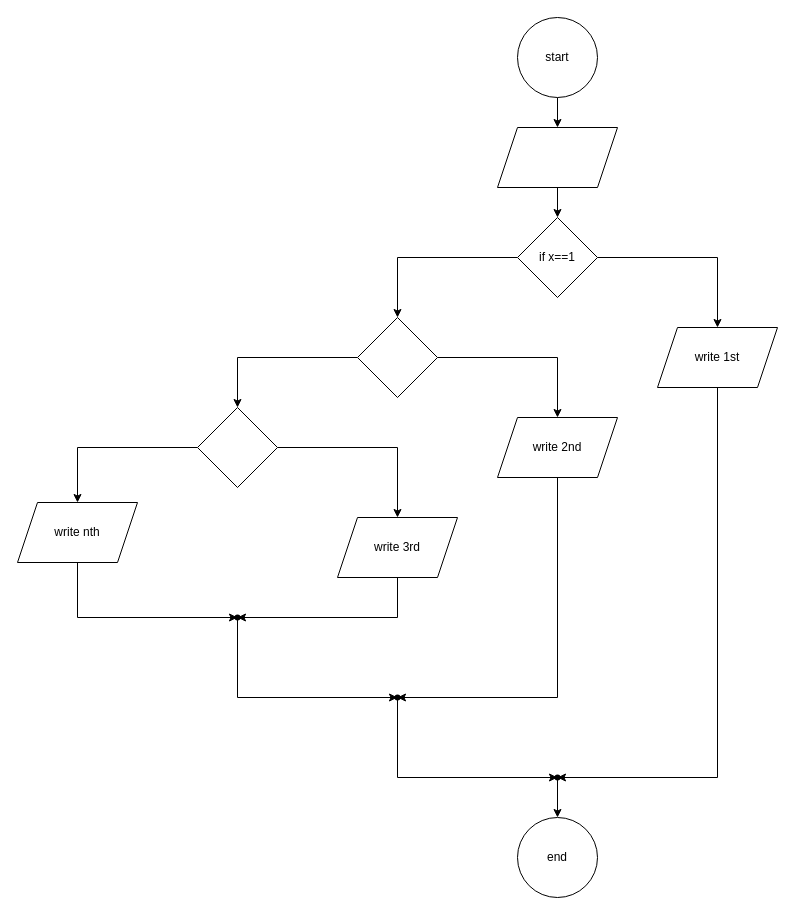
Image size: 795x915. Some labels were removed from this diagram. The shapes that lost their labels are listed below. From the top down, each one's centre as x and y in pixels, then its label:
At [557,157]: "read x".
At [397,357]: "if x==2".
At [237,447]: "if x==3".
